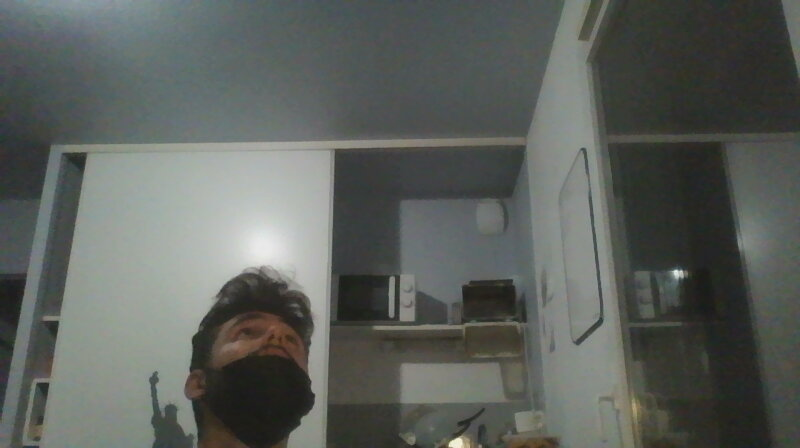with_incorrect_mask: (209, 312, 323, 437)
